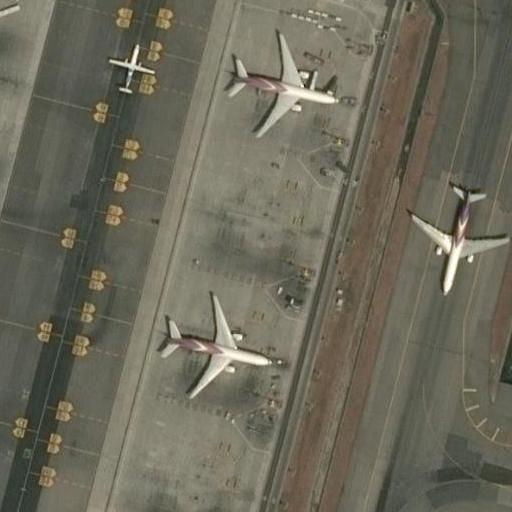Aircraft: (220, 36, 344, 144), (147, 292, 273, 398), (404, 177, 511, 296), (105, 43, 157, 96), (0, 0, 25, 9)
